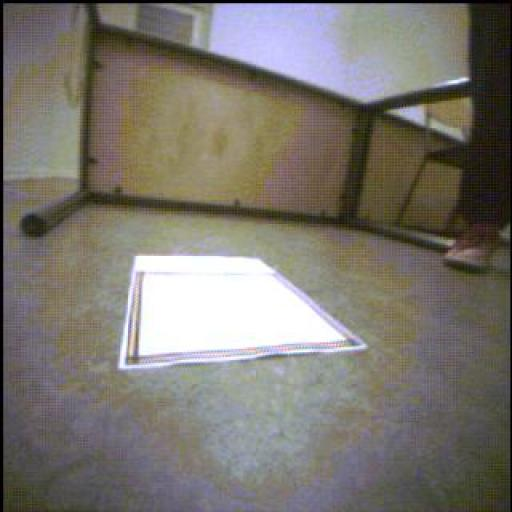Pad: (120, 257, 368, 371)
